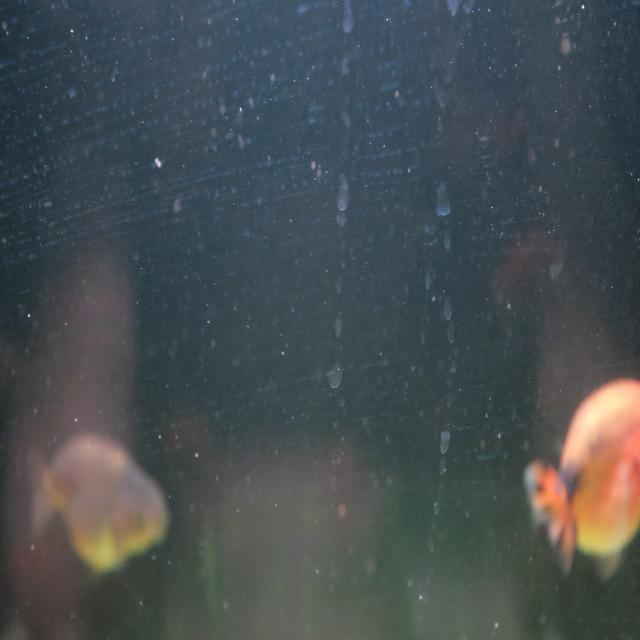Tilapia: (519, 371, 640, 587), (22, 428, 172, 584)
